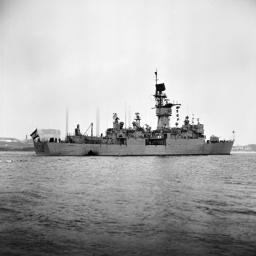Fragata: (29, 68, 236, 160)
